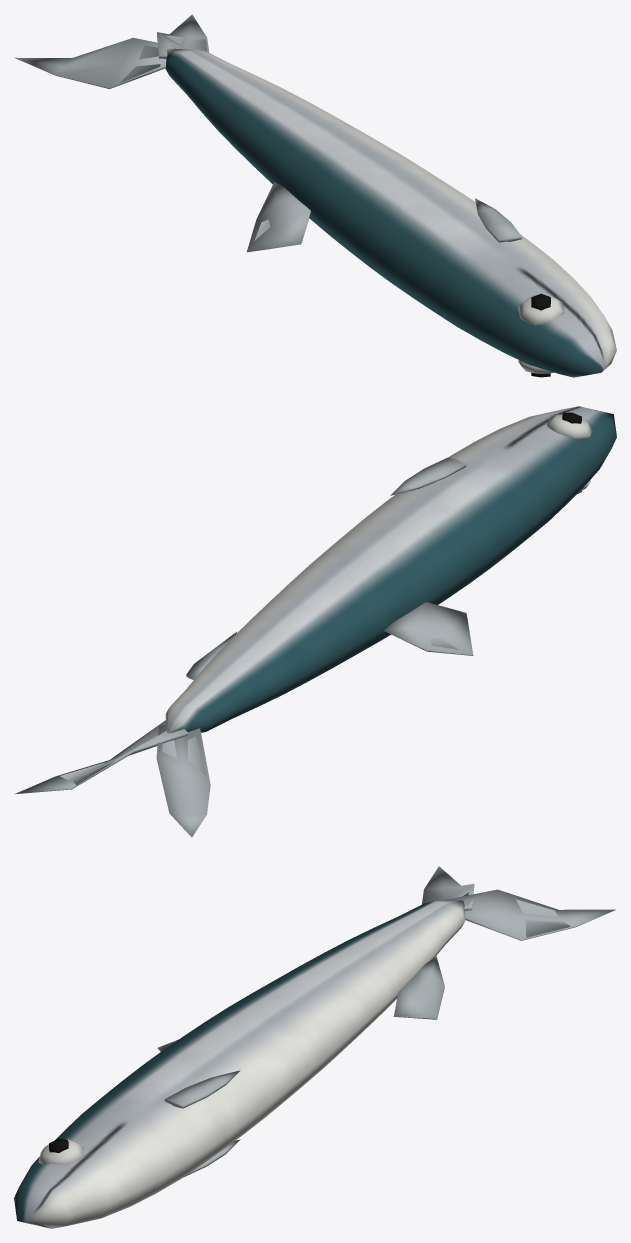
File: fish_anchovy.glb
3 renders of one model, top to bottom at view 1: azimuth 30°, elevation 25°; view 2: azimuth 150°, elevation 25°; view 3: azimuth 330°, elevation 25°, orthographic.
Visible parts, largest first — view 1: fish_anchovy; view 2: fish_anchovy; view 3: fish_anchovy.
Part boxes in pixels (x1,y1,x2,y2): fish_anchovy: (14, 14, 616, 377); fish_anchovy: (14, 406, 616, 837); fish_anchovy: (14, 866, 615, 1228).
Bounding box in the file's own units: 0.0307 × 0.0115 × 0.1324.
Materials: 3 (1 with a texture image).
